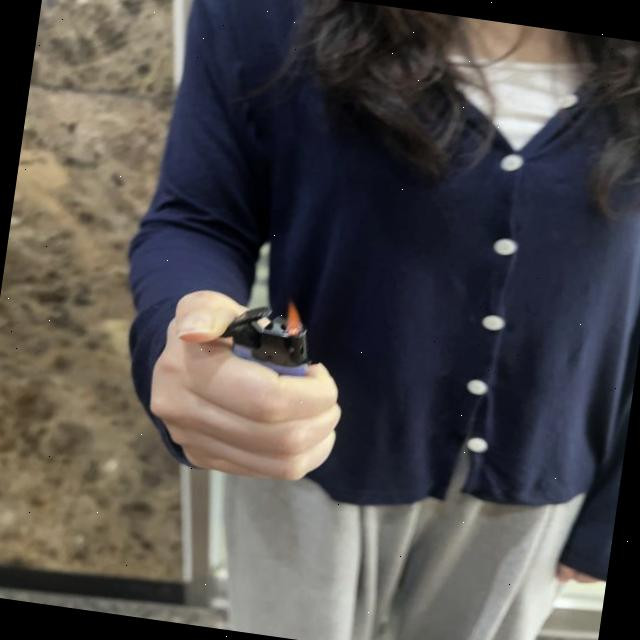fire: (278, 299, 308, 337)
